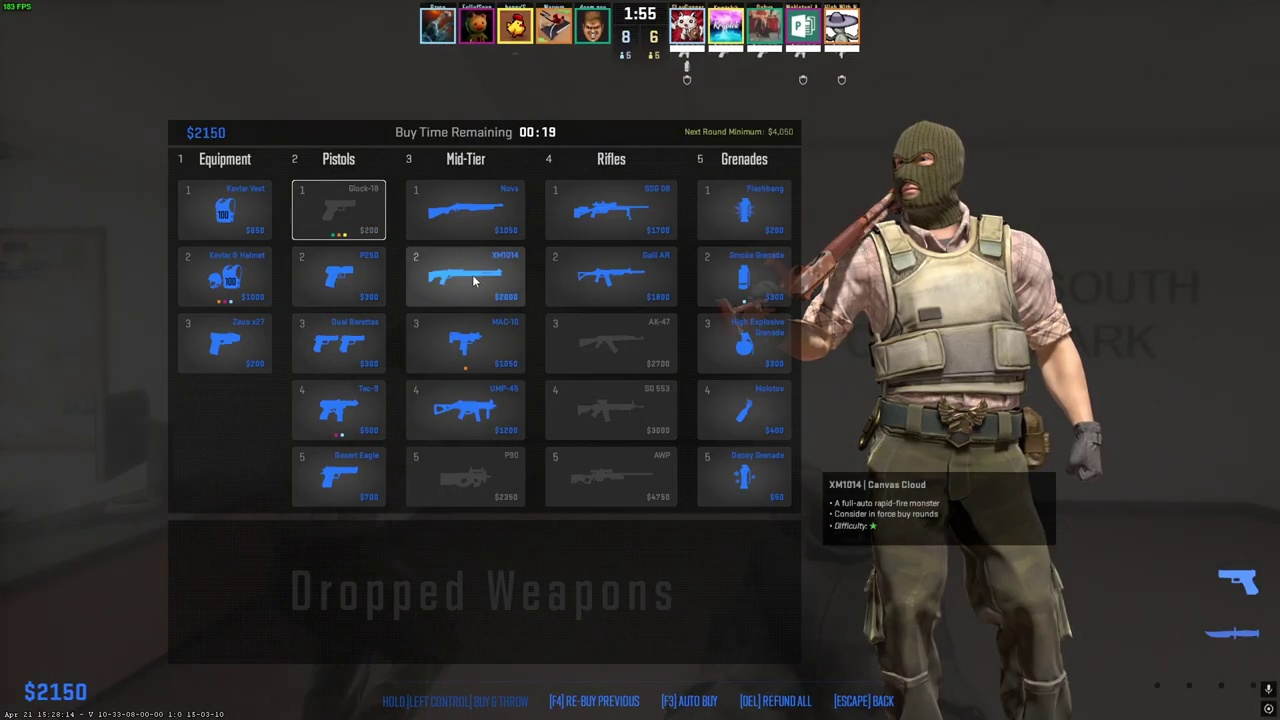Terrorist: (845, 122, 1080, 720)
